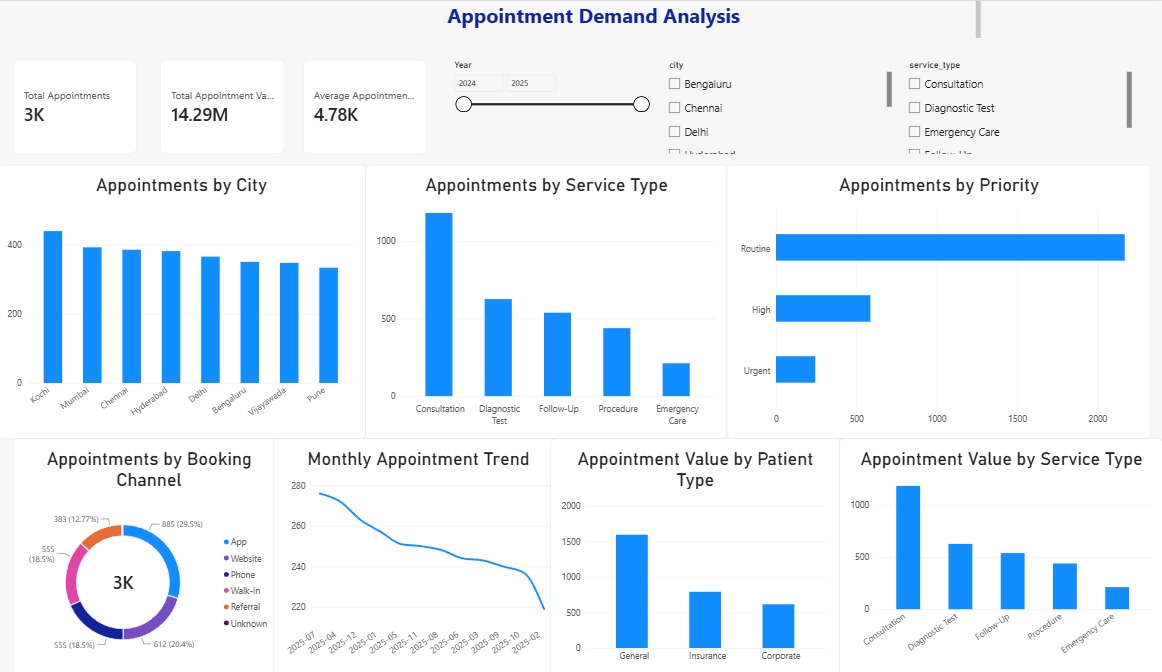

The dashboard page shown, as its layout file describes it:
{"tool":"powerbi","page":{"name":"Appointment Demand","canvas":[1920,1080],"ordinal":3},"visuals":[{"type":"textbox","box":[10,0,1618,60],"z":0},{"type":"cardVisual","fields":{"Data":["appointments.Total Appointments"]},"box":[80,94,198,150],"z":1},{"type":"cardVisual","fields":{"Data":["appointments.Total Appointment Value"]},"box":[316,94,198,150],"z":2},{"type":"cardVisual","fields":{"Data":["appointments.Average Appointment Value"]},"box":[544,94,198,150],"z":3},{"type":"clusteredColumnChart","title":"Appointments by City","fields":{"Category":["patients.city"],"Y":["appointments.Total Appointments"]},"box":[54,262,590,438],"z":4},{"type":"clusteredColumnChart","title":"Appointments by Service Type","fields":{"Category":["appointments.service_type"],"Y":["appointments.Total Appointments"]},"box":[644,262,578,438],"z":5},{"type":"barChart","title":"Appointments by Priority","fields":{"Category":["appointments.priority"],"Y":["appointments.Total Appointments"]},"box":[1222,262,678,438],"z":6},{"type":"donutChart","title":"Appointments by Booking Channel","fields":{"Category":["appointments.booking_channel"],"Y":["appointments.Total Appointments"]},"box":[80,700,434,380],"z":7},{"type":"lineChart","title":"Monthly Appointment Trend","fields":{"Category":["date_table.Year-Month"],"Y":["appointments.Total Appointments"]},"box":[496,700,464,380],"z":8},{"type":"clusteredColumnChart","title":"Appointment Value by Patient Type","fields":{"Category":["patients.patient_type"],"Y":["appointments.Total Appointments"]},"box":[940,700,462,380],"z":9},{"type":"clusteredColumnChart","title":"Appointment Value by Service Type","fields":{"Category":["appointments.service_type"],"Y":["appointments.Total Appointments"]},"box":[1402,700,518,380],"z":10},{"type":"slicer","fields":{"Values":["date_table.Year"]},"box":[778,94,324,150],"z":11},{"type":"slicer","fields":{"Values":["patients.city"]},"box":[1122,94,364,150],"z":12},{"type":"slicer","fields":{"Values":["appointments.service_type"]},"box":[1506,94,364,150],"z":13}]}

Visuals, with their boxes in screenshot pixels (x1, y1, x2, y2), scaled from the page's 1920x1080 canvas onto the 1162x672 screenshot:
textbox: bbox(6, 0, 985, 37)
cardVisual - appointments.Total Appointments: bbox(48, 58, 168, 152)
cardVisual - appointments.Total Appointment Value: bbox(191, 58, 311, 152)
cardVisual - appointments.Average Appointment Value: bbox(329, 58, 449, 152)
"Appointments by City" clusteredColumnChart: bbox(33, 163, 390, 436)
"Appointments by Service Type" clusteredColumnChart: bbox(390, 163, 740, 436)
"Appointments by Priority" barChart: bbox(740, 163, 1150, 436)
"Appointments by Booking Channel" donutChart: bbox(48, 436, 311, 671)
"Monthly Appointment Trend" lineChart: bbox(300, 436, 581, 671)
"Appointment Value by Patient Type" clusteredColumnChart: bbox(569, 436, 849, 671)
"Appointment Value by Service Type" clusteredColumnChart: bbox(849, 436, 1161, 671)
slicer - date_table.Year: bbox(471, 58, 667, 152)
slicer - patients.city: bbox(679, 58, 899, 152)
slicer - appointments.service_type: bbox(911, 58, 1132, 152)
